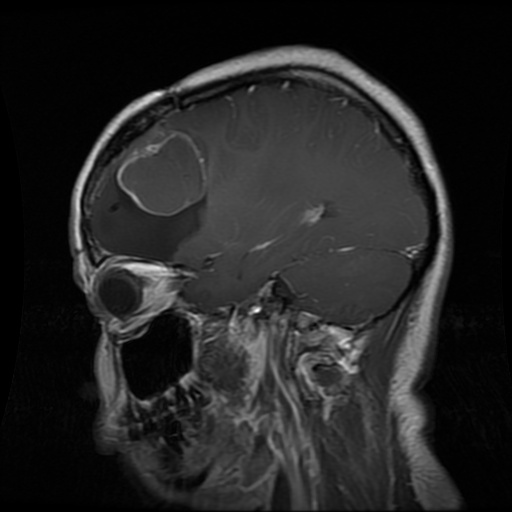glioma: (87, 131, 209, 261)
